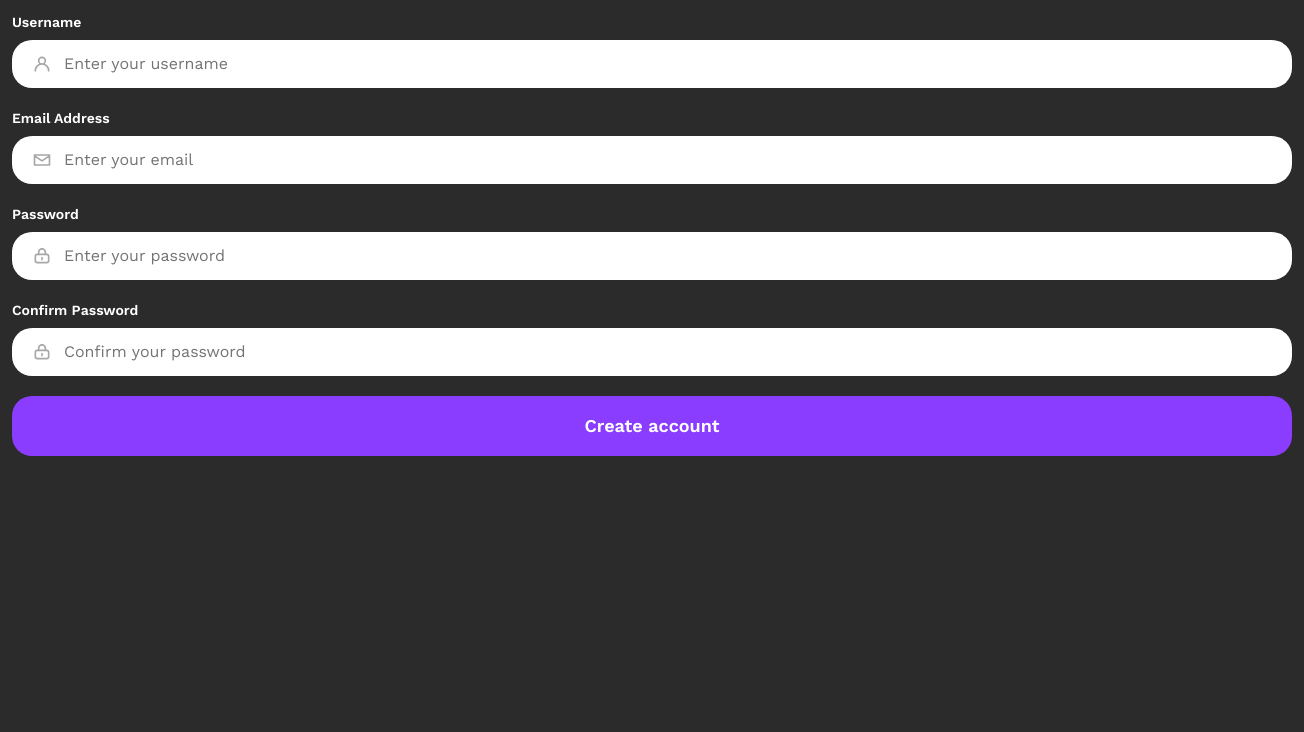
Test: CreateAccountForm › reports every empty field on submit
Click the button "Create account" at [652, 426], box 12,396 -> 1292,456
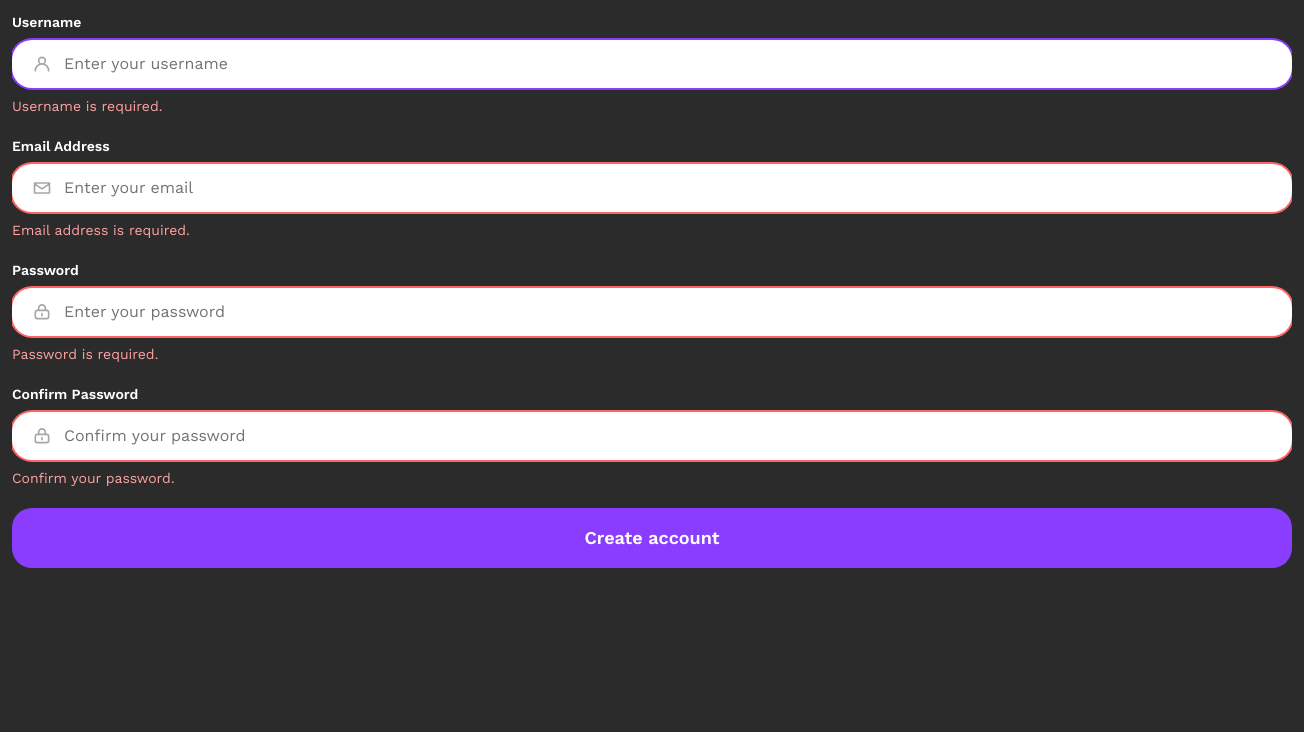
Expected: the text "Username is required." is shown, 12,98 -> 162,114
Expected: the text "Email address is required." is shown, 12,222 -> 190,238
Expected: the text "Password is required." is shown, 12,346 -> 158,362
